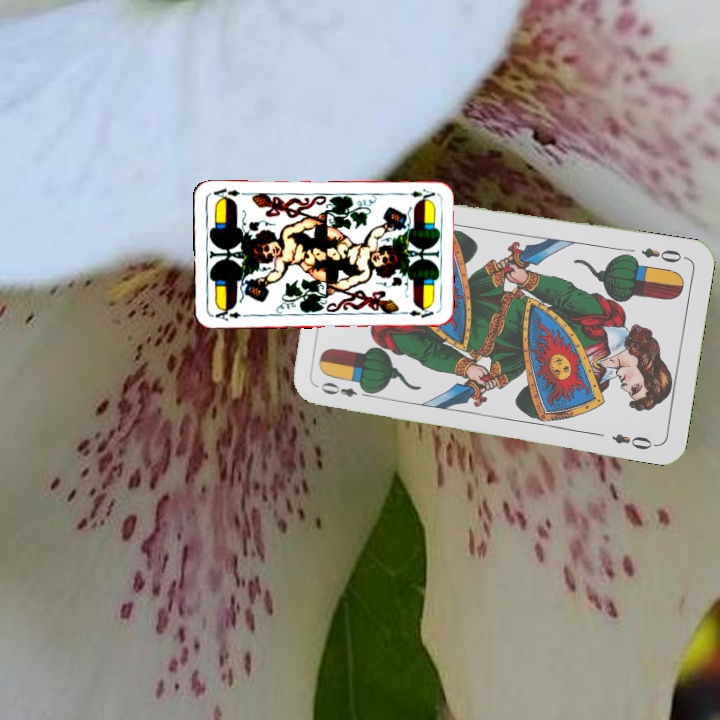EA: (209, 304, 243, 324), (397, 185, 437, 202)
EO: (316, 378, 375, 400), (637, 243, 689, 266)
